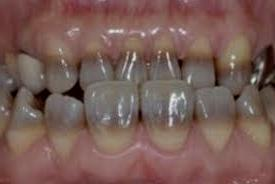Discoloration: (80, 81, 142, 164), (135, 78, 195, 155), (187, 83, 240, 151), (41, 97, 89, 164), (4, 92, 45, 164), (229, 87, 272, 153), (210, 39, 256, 93), (40, 37, 76, 99), (144, 35, 182, 91), (6, 47, 45, 98), (180, 38, 217, 89), (75, 40, 111, 90), (113, 41, 147, 89)
